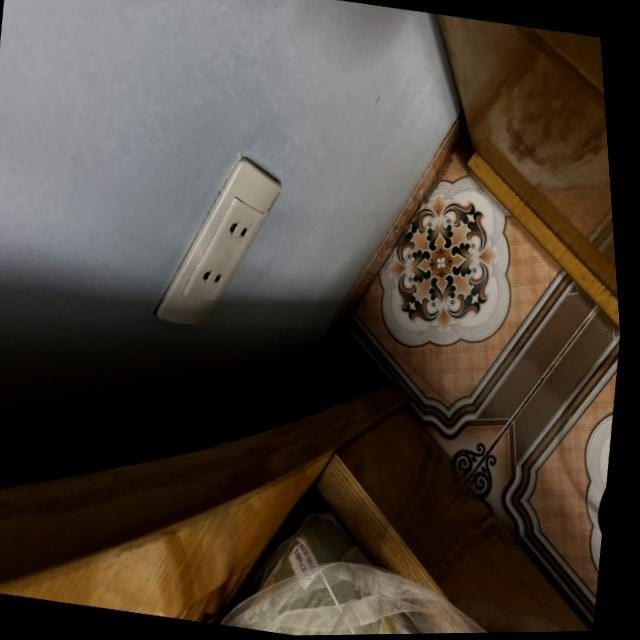outlet: (141, 145, 296, 340)
